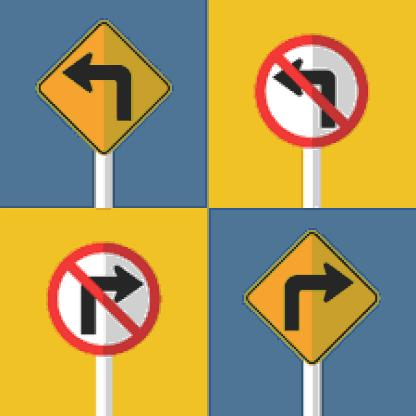No right turn: (41, 238, 163, 350)
